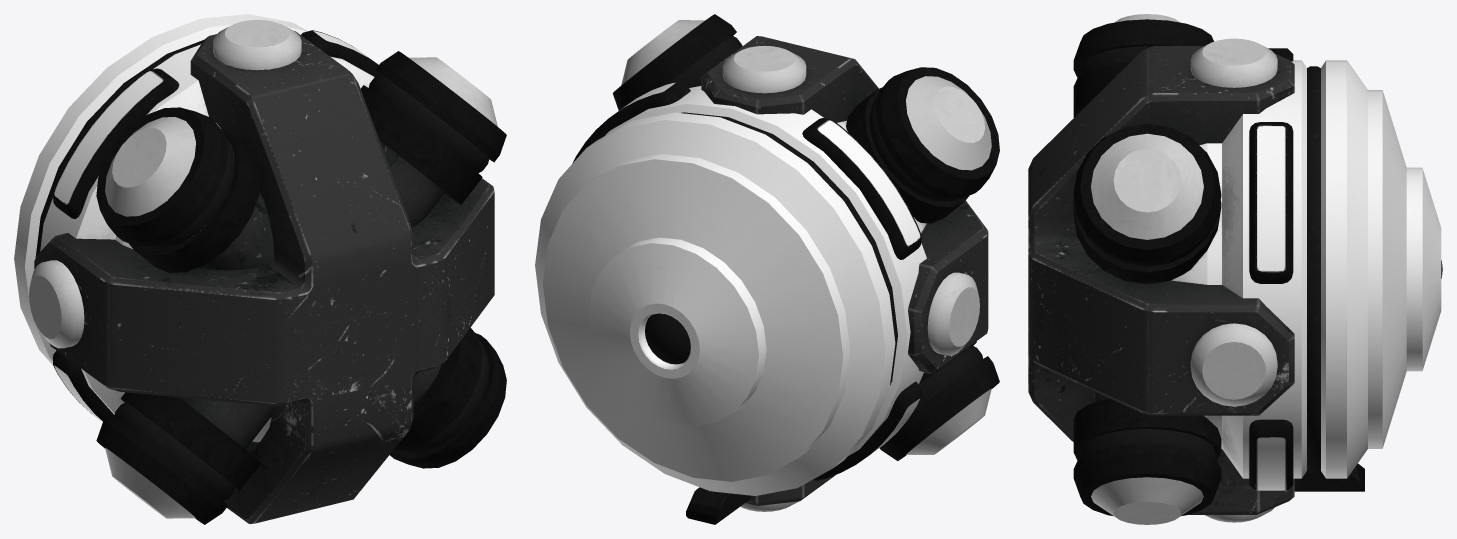
The model's file is Gravity_generator_LoD_3.fbx.
3 renders of one model, left to right at view 1: azimuth 30°, elevation 25°; view 2: azimuth 150°, elevation 25°; view 3: azimuth 270°, elevation 25°, orthographic. The views are drawn at different scales.
Visible parts, largest first — view 1: Gravity_generator_LoD_0; view 2: Gravity_generator_LoD_0; view 3: Gravity_generator_LoD_0.
Part boxes in pixels (bbox=[...]): Gravity_generator_LoD_0: bbox=[14, 14, 506, 524]; Gravity_generator_LoD_0: bbox=[535, 14, 999, 524]; Gravity_generator_LoD_0: bbox=[1028, 14, 1442, 524].
Bounding box in the file's own units: 2.25e+07 × 2.37e+07 × 1.94e+07.
